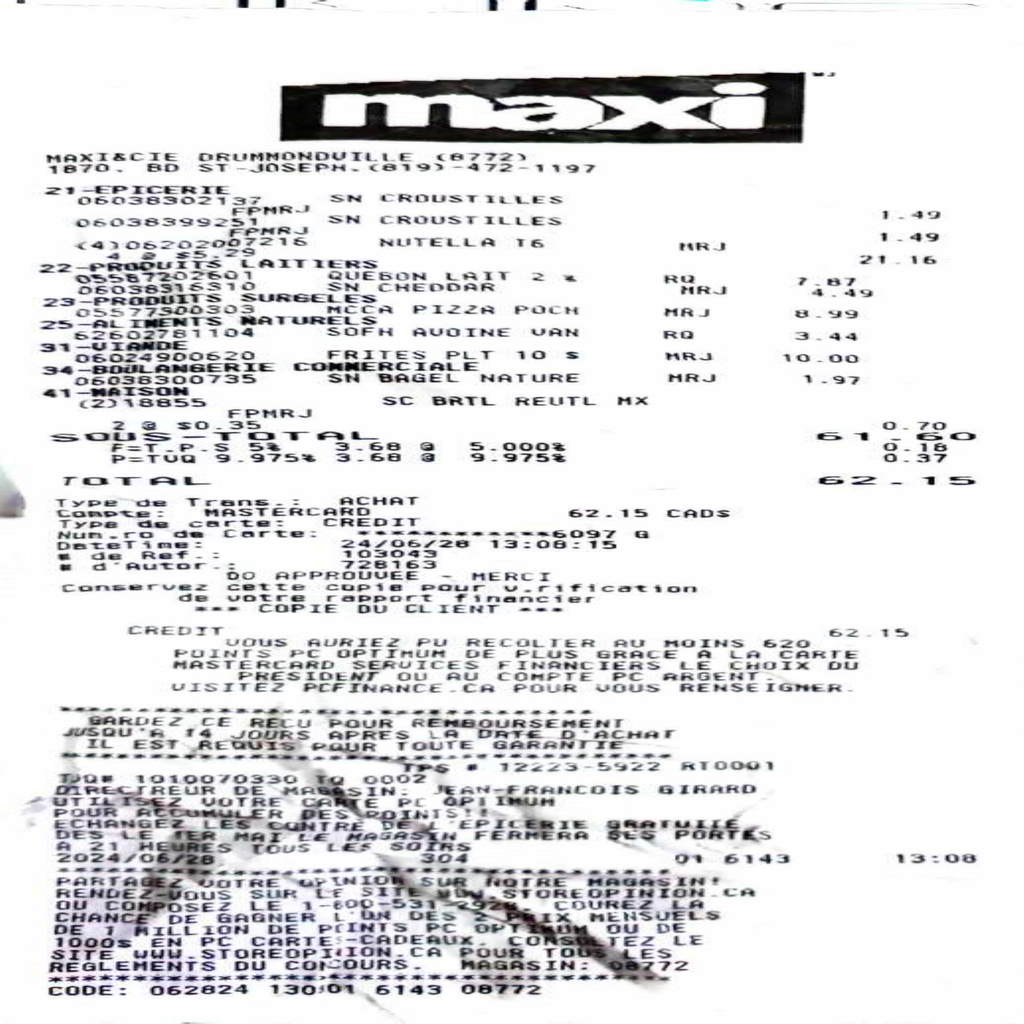recipt: (0, 2, 1022, 1022)
